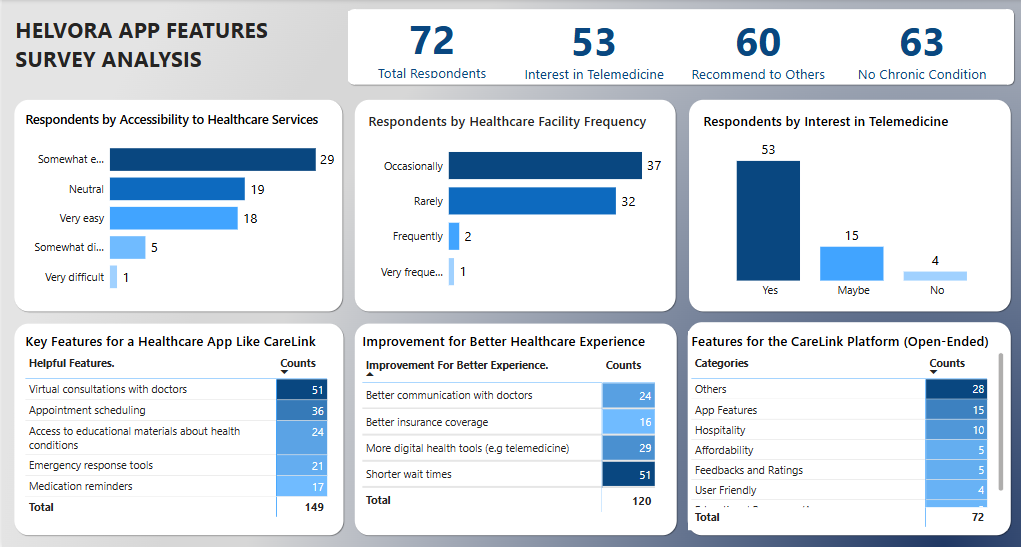

What the dashboard file says about the page in this screenshot:
{"tool":"powerbi","page":{"name":"App Features","canvas":[1520,820],"ordinal":1},"visuals":[{"type":"textbox","box":[14.7,18,472.3,107.9],"z":7000},{"type":"card","fields":{"Values":["All Measures.Total Respondents"]},"box":[516.5,18,251.1,104.5],"z":8000,"group":"g1"},{"type":"columnChart","title":"Respondents by Interest in Telemedicine","fields":{"Category":["Survey Data.Interest in Telemedicine"],"Y":["CountNonNull(Survey Data.Respondents)"]},"box":[1041.1,166.7,457.6,287.7],"z":8000},{"type":"card","fields":{"Values":["All Measures.Interest in Telemedicine"]},"box":[758.1,18,251.1,107.9],"z":9000,"group":"g1"},{"type":"pivotTable","title":"Improvement for Better Healthcare Experience","fields":{"Rows":["Improvements.Improvement For Better Healthcare Experience."],"Values":["CountNonNull(Improvements.VImprovements Value)"]},"box":[532.8,495.2,454.4,297.5],"z":9000},{"type":"card","fields":{"Values":["All Measures.Recommend to Others"]},"box":[999.8,18,257.3,107.9],"z":10000,"group":"g1"},{"type":"pivotTable","title":"Key Features for a Healthcare App Like CareLink","fields":{"Values":["CountNonNull(Features.Features Value)"],"Rows":["Features.Helpful Features."]},"box":[29.4,495.2,470.7,297.5],"z":10000},{"type":"card","fields":{"Values":["CountNonNull(Survey Data.Have Any Chronic Healthcare Codition)"]},"box":[1247.7,18,251.1,107.9],"z":11000,"group":"g1"},{"type":"pivotTable","title":"Features for the CareLink Platform (Open-Ended)","fields":{"Rows":["Open Ended Categories.Categories"],"Values":["CountNonNull(Open Ended Categories.Value)"]},"box":[1023.1,495.2,475.6,297.5],"z":11000},{"type":"barChart","title":"Respondents by Accessibility to Healthcare Services","fields":{"Category":["Survey Data.Easy Accessibility to Healthcare Services"],"Y":["CountNonNull(Survey Data.Respondents)"]},"box":[29.4,166.7,470.7,287.7],"z":12000},{"type":"barChart","title":"Respondents by Healthcare Facility Frequency","fields":{"Y":["CountNonNull(Survey Data.Respondents)"],"Category":["Survey Data.Healthcare Facility Frequency"]},"box":[541.2,167,447.3,287.7],"z":13000},{"type":"group","id":"g1","title":"Group 1","box":[516.5,18,982.3,107.9],"z":14000}]}

Visuals, with their boxes in screenshot pixels (x1, y1, x2, y2), scaled from the page's 1520x820 canvas onto the 1021x547 screenshot:
textbox: detection(10, 12, 327, 84)
card - All Measures.Total Respondents: detection(347, 12, 516, 82)
"Respondents by Interest in Telemedicine" columnChart: detection(699, 111, 1007, 303)
card - All Measures.Interest in Telemedicine: detection(509, 12, 678, 84)
"Improvement for Better Healthcare Experience" pivotTable: detection(358, 330, 663, 529)
card - All Measures.Recommend to Others: detection(672, 12, 844, 84)
"Key Features for a Healthcare App Like CareLink" pivotTable: detection(20, 330, 336, 529)
card - CountNonNull(Survey Data.Have Any Chronic Healthcare Codition): detection(838, 12, 1007, 84)
"Features for the CareLink Platform (Open-Ended)" pivotTable: detection(687, 330, 1007, 529)
"Respondents by Accessibility to Healthcare Services" barChart: detection(20, 111, 336, 303)
"Respondents by Healthcare Facility Frequency" barChart: detection(364, 111, 664, 303)
"Group 1" group: detection(347, 12, 1007, 84)
